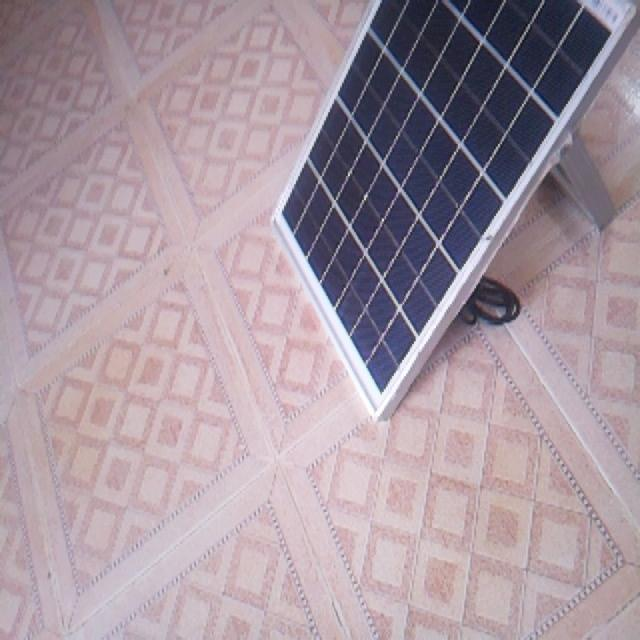Normal Solar Panel: (275, 0, 640, 419)
